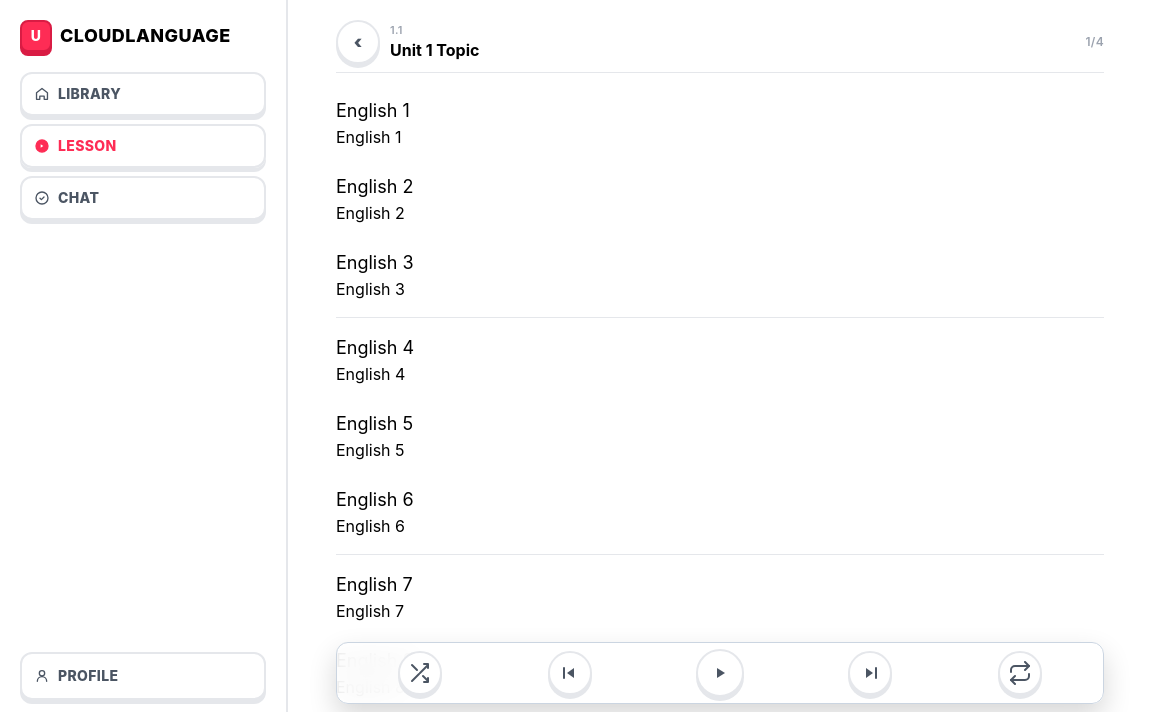
Test case: App lesson navigation guard › moves to next unit directly when next is clicked
Click the button named "Next": (870, 673) 848,651 -> 892,695
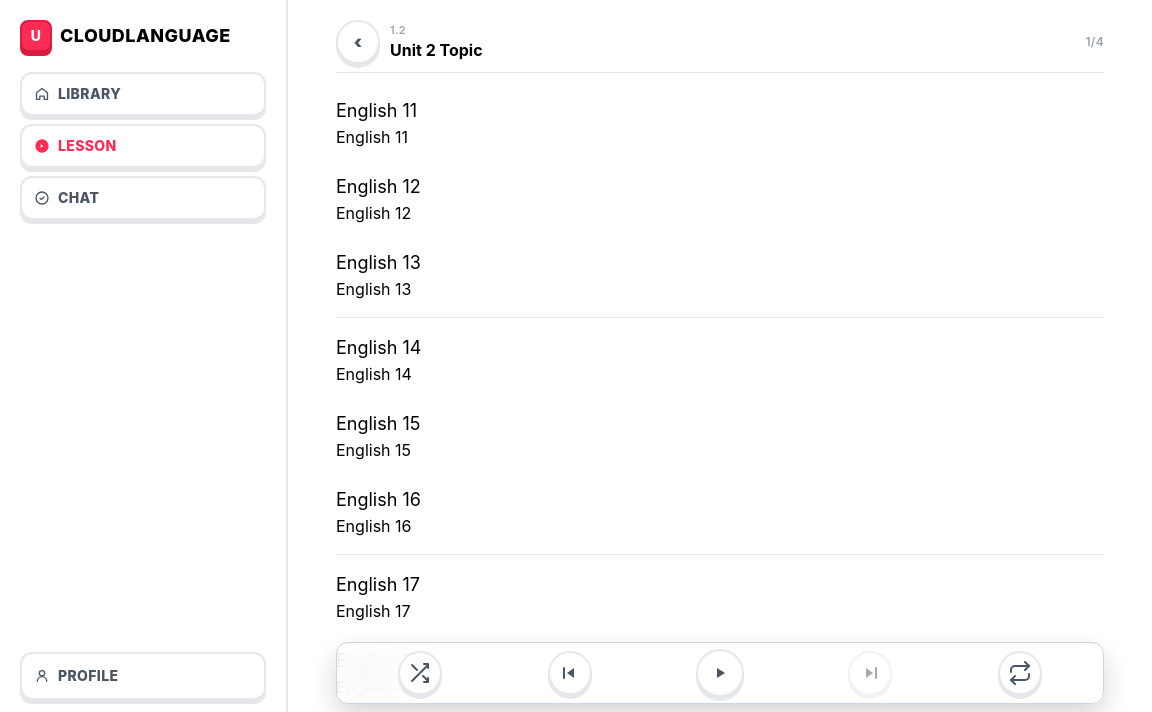
Expected: the text "1/4" is shown, 1086,34 -> 1104,50
Result: the text "Unit 2 Topic" is shown at 390,38 -> 483,62
